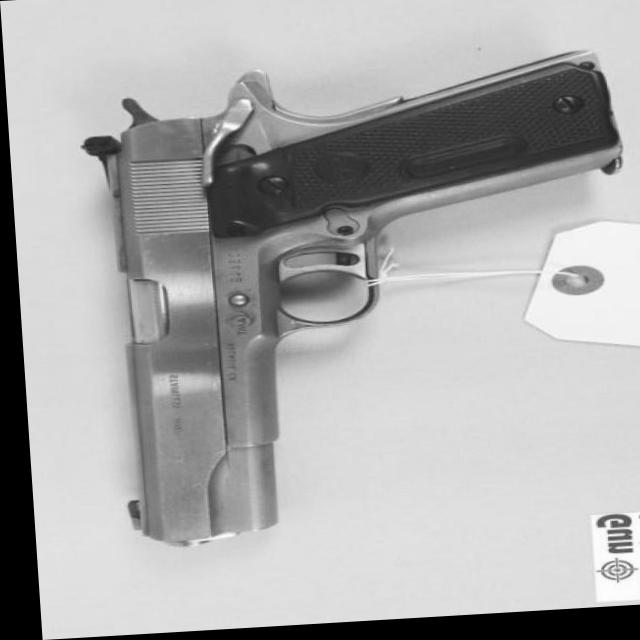handgun: (76, 52, 633, 553)
